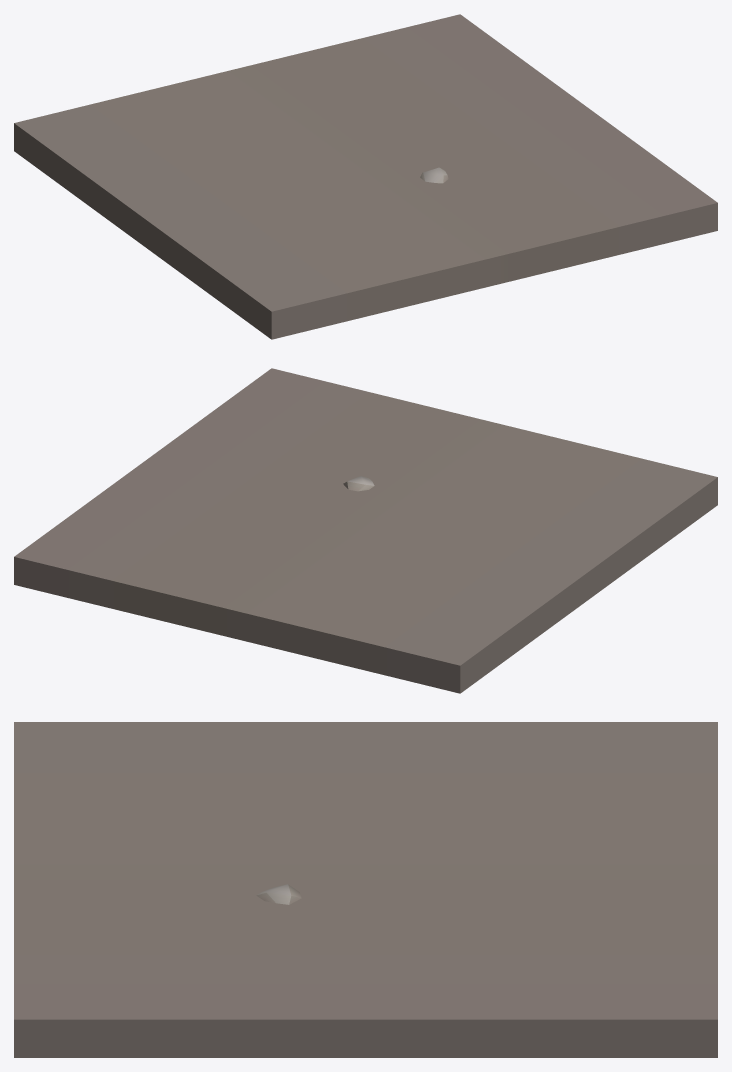
Rendered from kaykit-dungeon-remastered-floor-dirt-small-d-gltf.glb.
3 views of the same model, one above another, from view 1: azimuth 30°, elevation 25°; view 2: azimuth 150°, elevation 25°; view 3: azimuth 270°, elevation 25° (orthographic). The views are drawn at different scales.
Parts seen in each view (by area): view 1: floor_dirt_small_D; view 2: floor_dirt_small_D; view 3: floor_dirt_small_D.
Boxes of the visible parts, box(x1,y1,x2,y2) form: floor_dirt_small_D: box(14, 14, 717, 339); floor_dirt_small_D: box(14, 368, 717, 693); floor_dirt_small_D: box(14, 722, 717, 1057).
Bounding box in the file's own units: 2 × 0.1384 × 2.
Materials: 1 (1 with a texture image).
